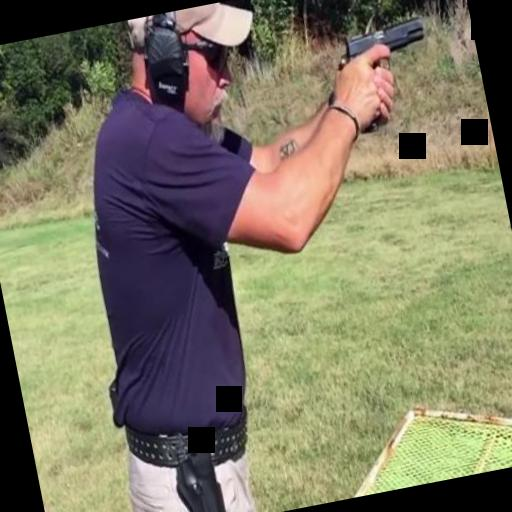Handgun: (331, 13, 442, 137)
